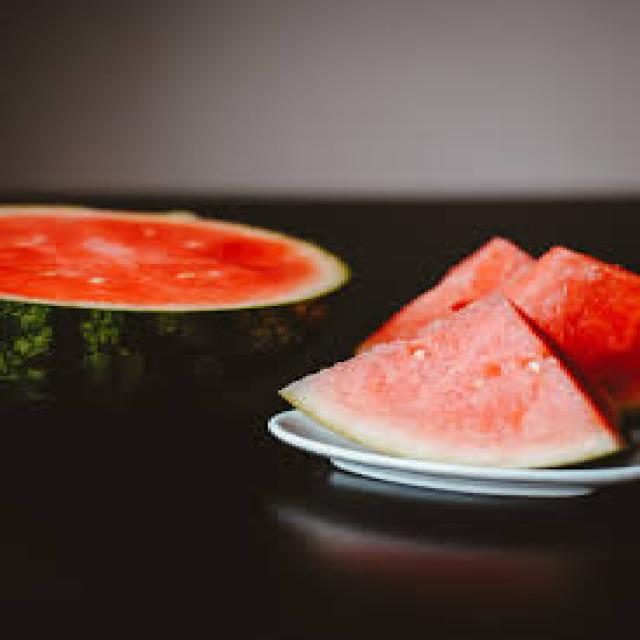watermelon: (274, 285, 630, 469), (0, 203, 348, 311), (501, 243, 636, 411), (351, 234, 532, 355)
